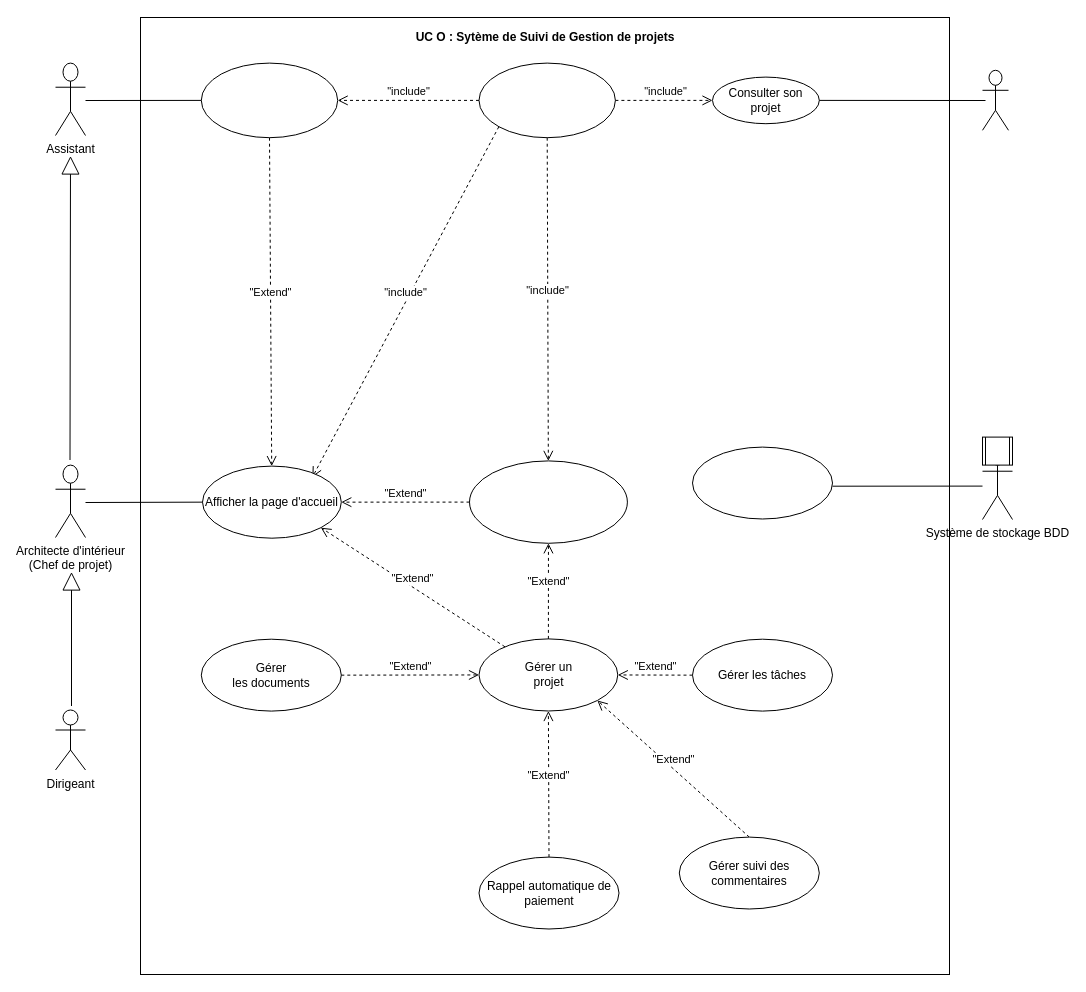
This 1086x992 diagram has some shape labels left out. Each missing label, with the centre of its shape:
"Authentification" belongs at pixel 546 100.
"Contrôler le suivi de projets (Tableau bord)" belongs at pixel 547 501.
"Gérer les clients" belongs at pixel 269 100.
"L'invité" belongs at pixel 995 99.
"Stocker les données de l'application" belongs at pixel 762 482.
